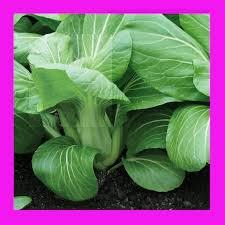Healthy-Pechay: (23, 19, 208, 189)
